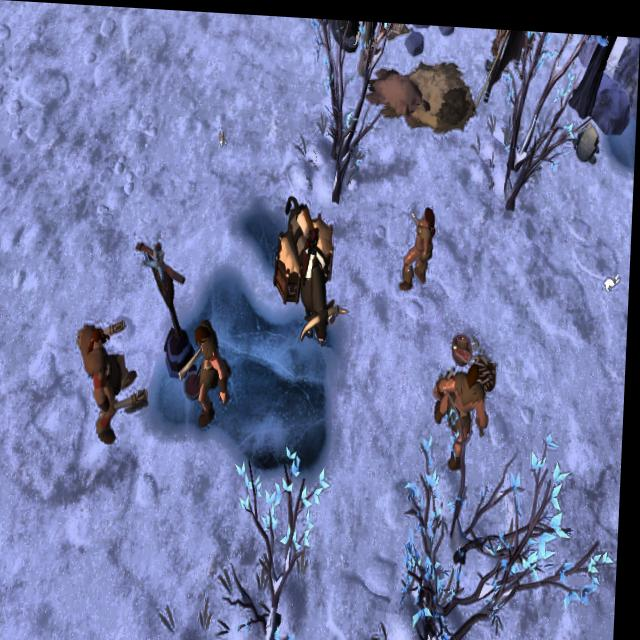enemy_factionKeeper: (75, 316, 158, 442), (430, 350, 495, 467), (182, 304, 236, 429), (400, 192, 443, 294)
